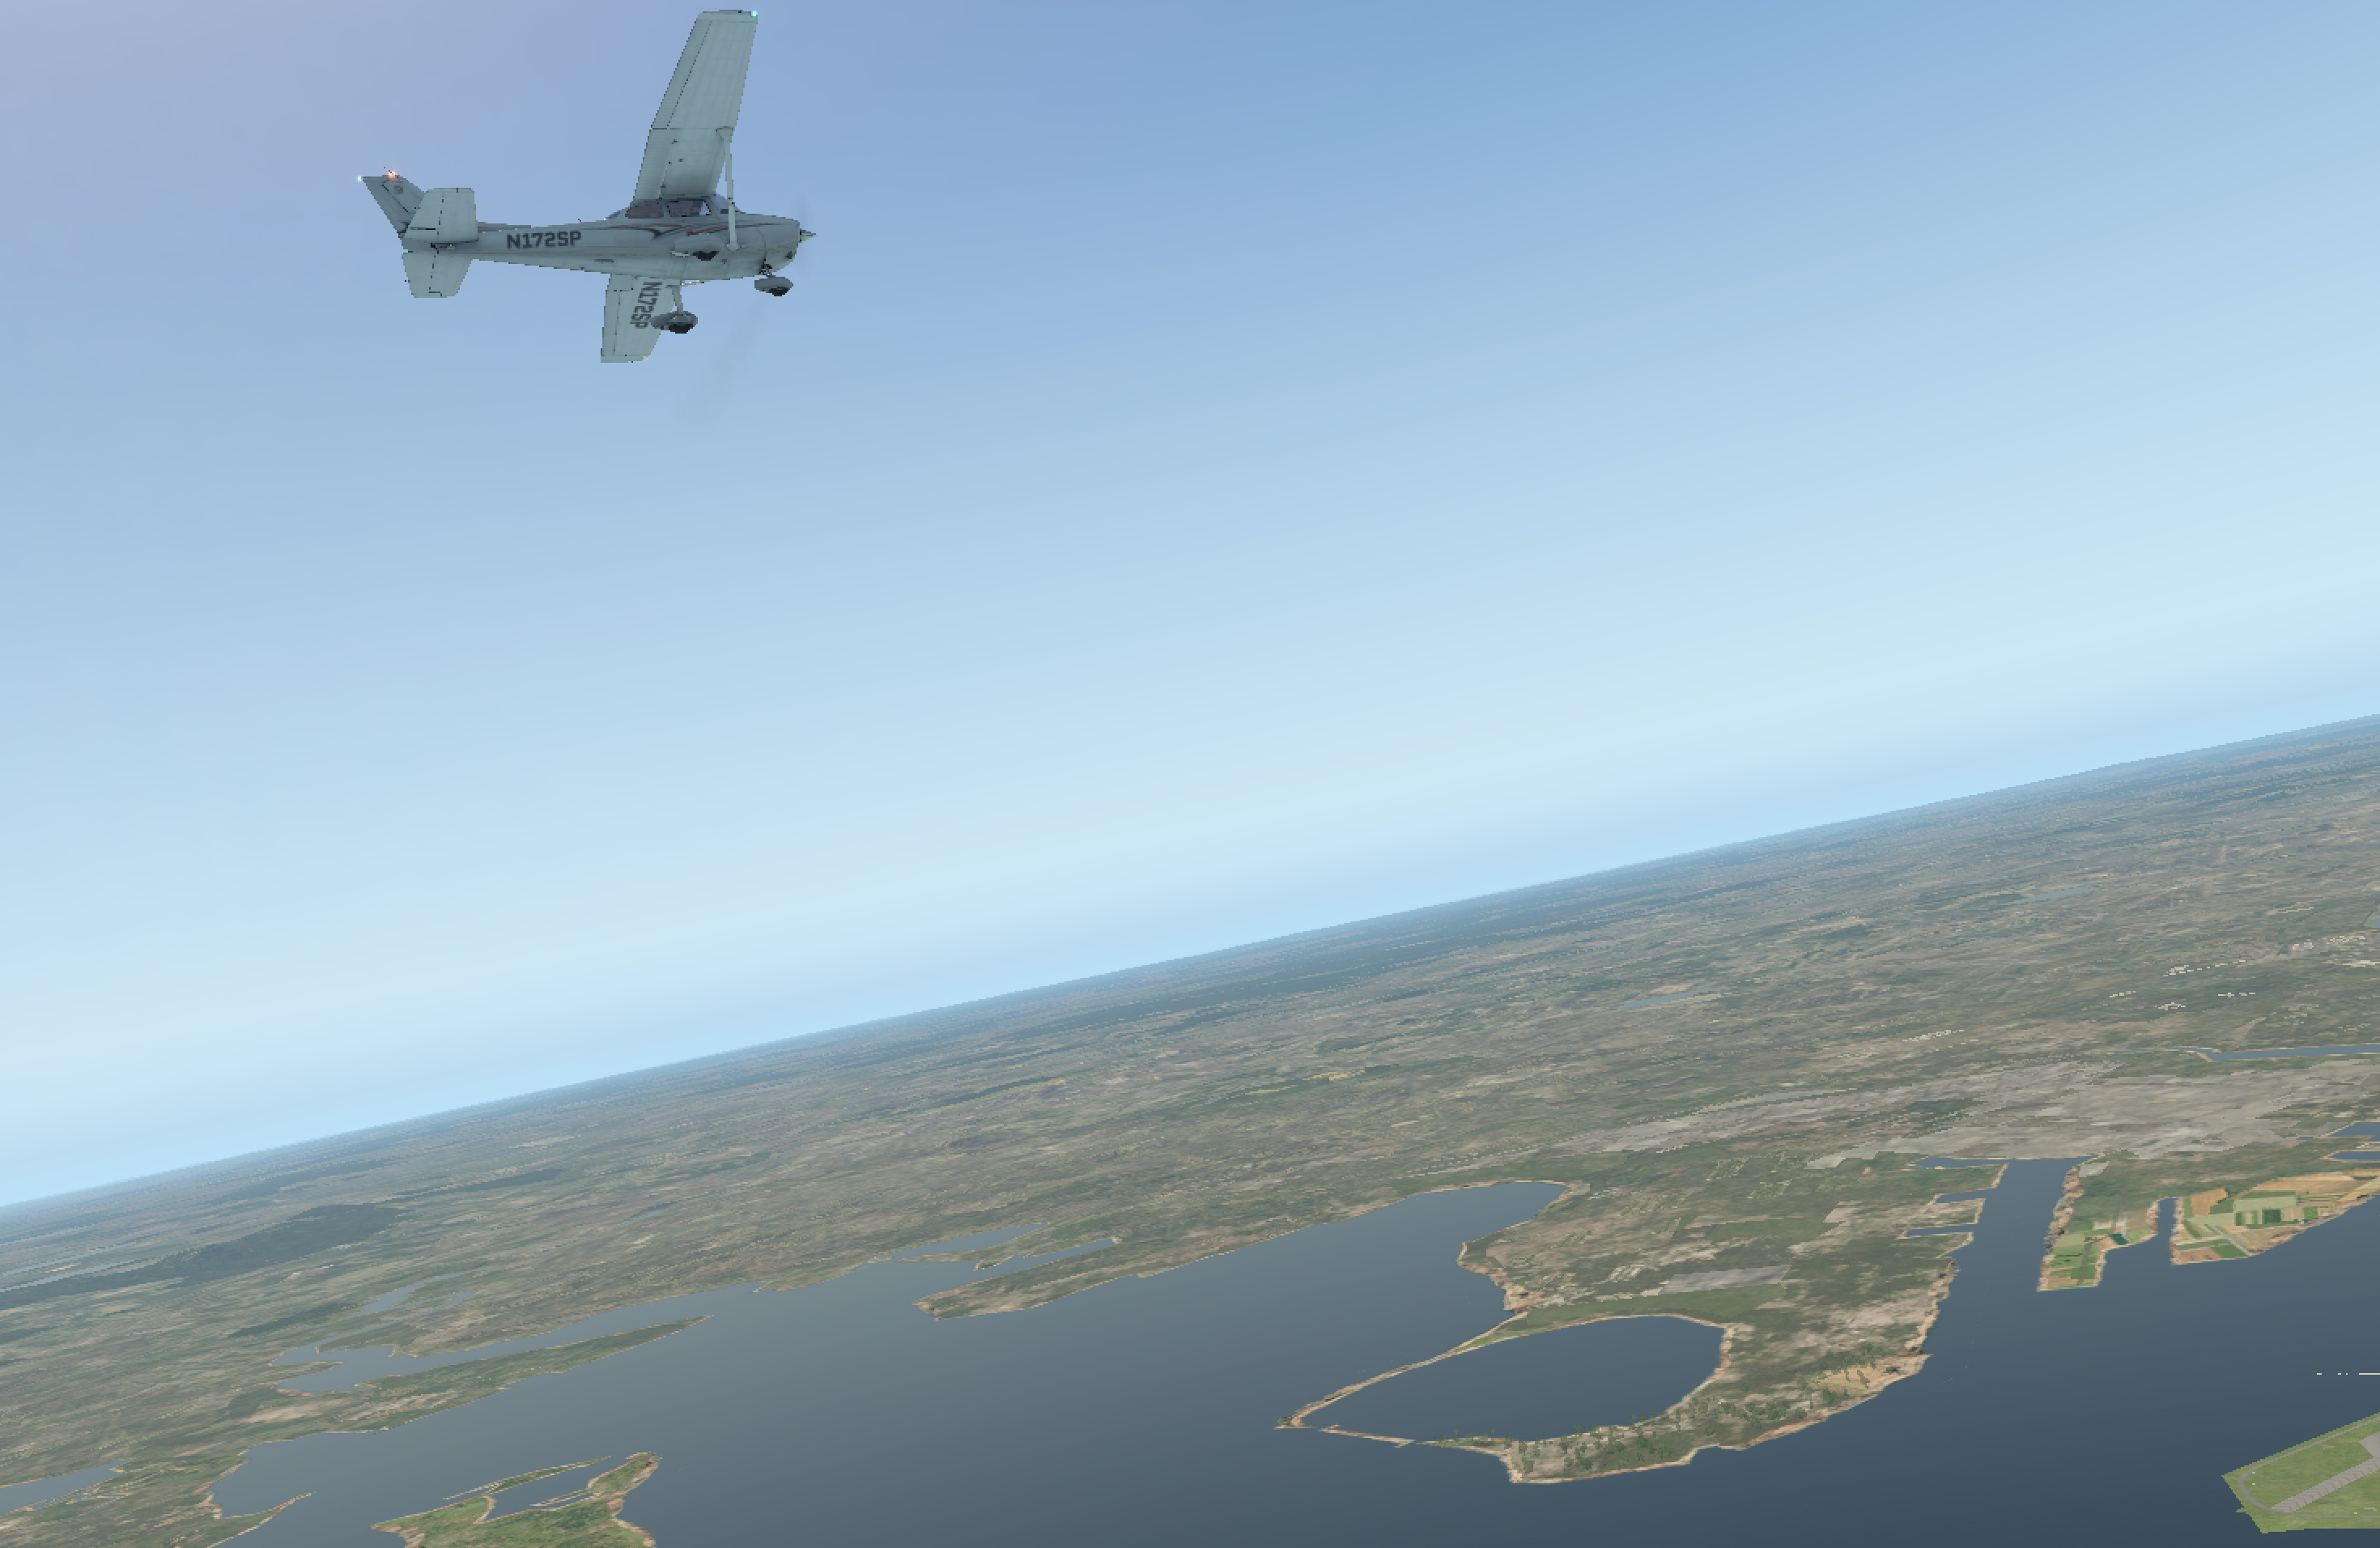aircraft: (501, 164, 886, 308)
